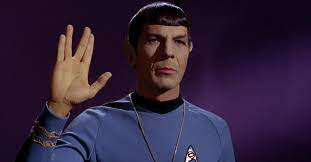LiveLong: (48, 24, 111, 104)
